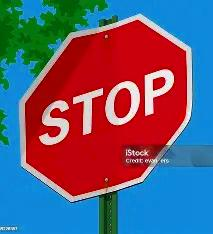Stop: (25, 29, 185, 186)
